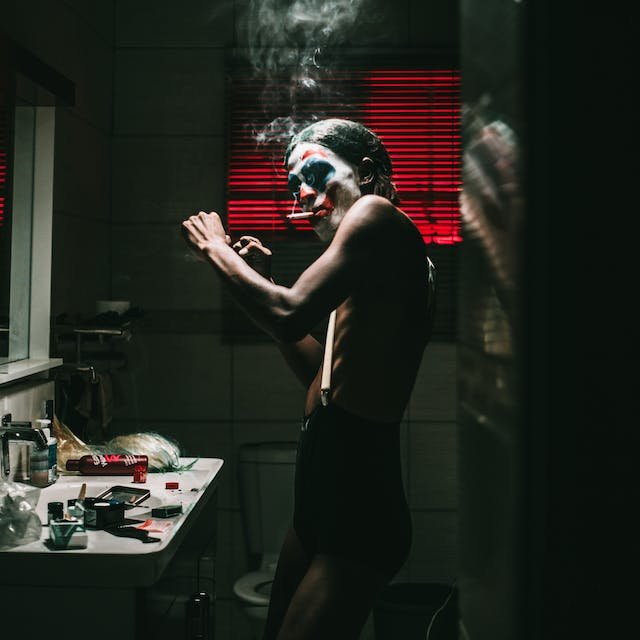Cigarette: (285, 211, 315, 220)
